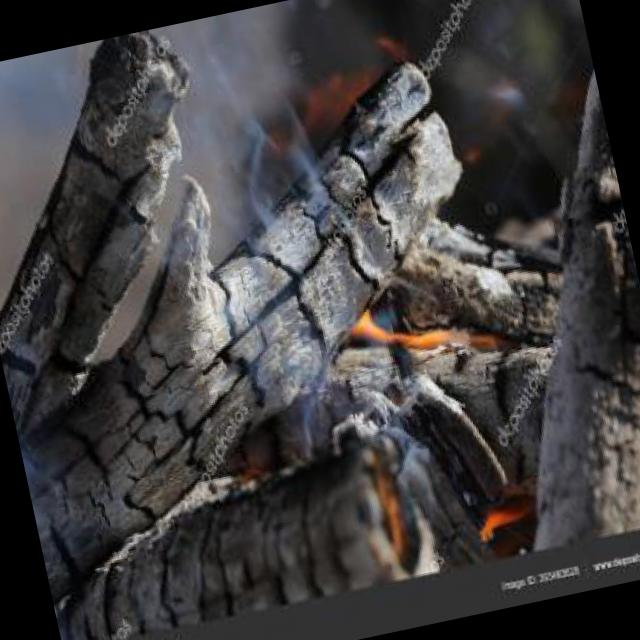fire: (340, 276, 478, 382), (347, 447, 415, 562), (466, 490, 530, 548)
smoke: (185, 20, 352, 266)
